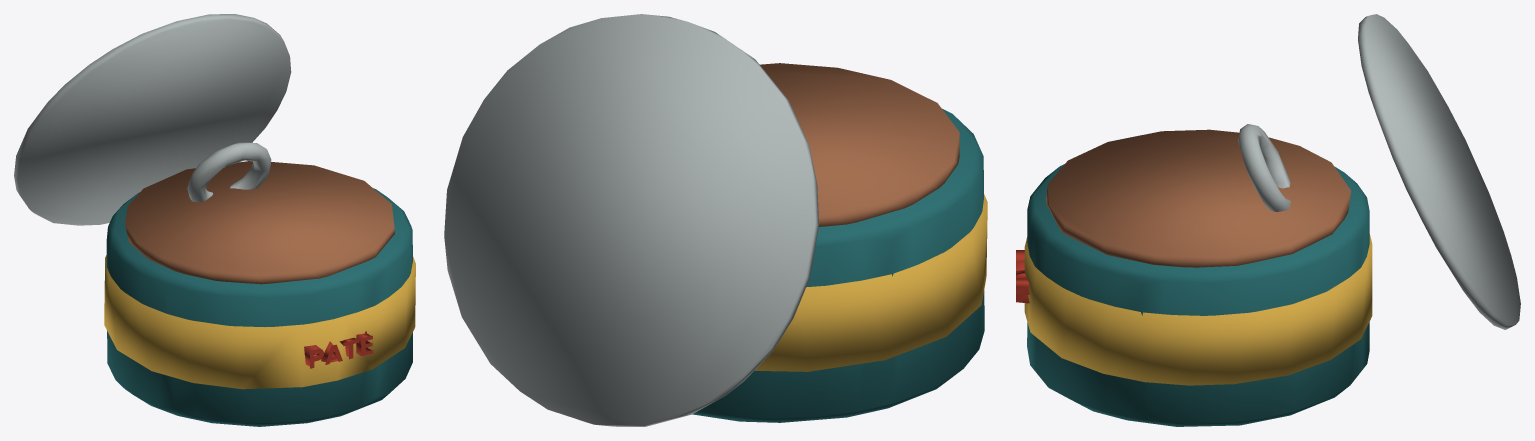
File: pate_hop.glb
3 renders of one model, left to right at view 1: azimuth 30°, elevation 25°; view 2: azimuth 150°, elevation 25°; view 3: azimuth 270°, elevation 25°, orthographic. The views are drawn at different scales.
Visible parts, largest first — view 1: pate_hop; view 2: pate_hop; view 3: pate_hop.
Part boxes in pixels (x1,y1,x2,y2): pate_hop: [14, 14, 415, 426]; pate_hop: [444, 14, 987, 426]; pate_hop: [1016, 14, 1520, 426].
Size of the model in its own units: 0.101 by 0.1048 by 0.1467.
